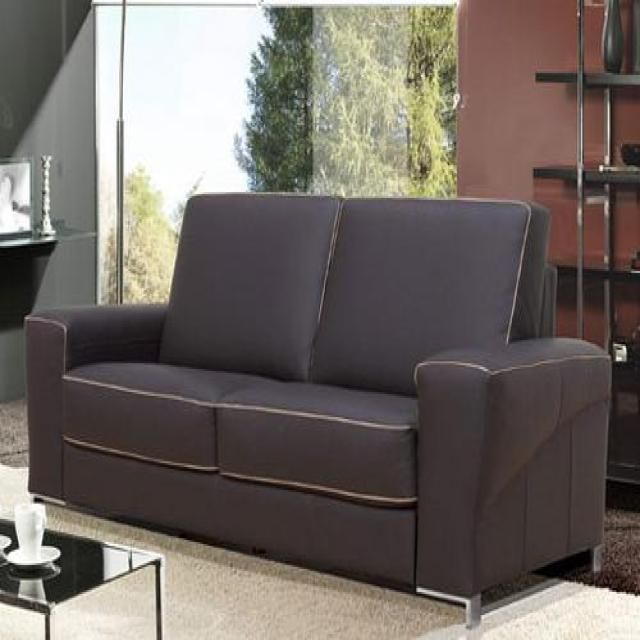sofa: (23, 193, 613, 619)
